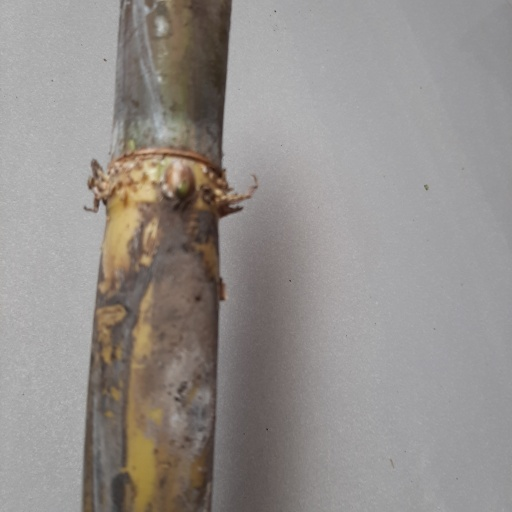Bud: (160, 159, 195, 204)
